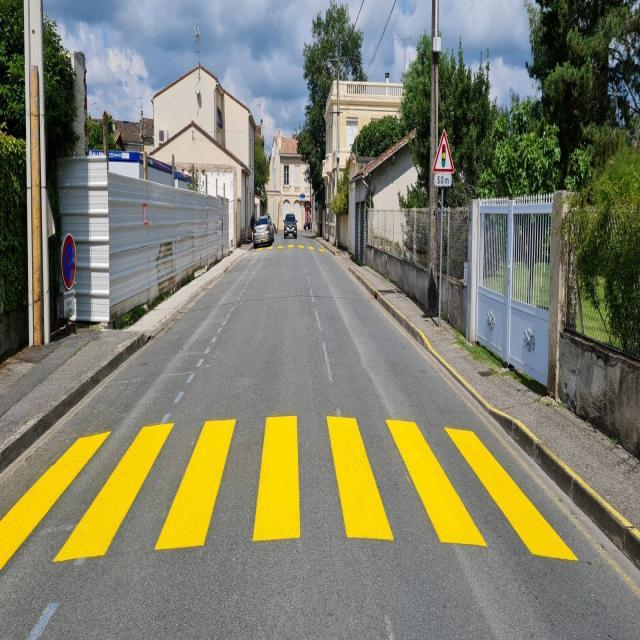crosswalk: (0, 419, 627, 563)
